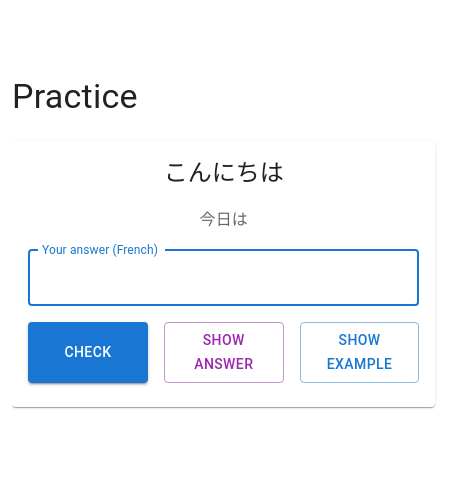
Test case: Practice Component › shows example sentence when requested
Check: the heading "こんにちは" is shown, box [164,160,284,188]
# Click show example button
Click the button "Show Example".
click(360, 352)  # box [300,322,420,382]
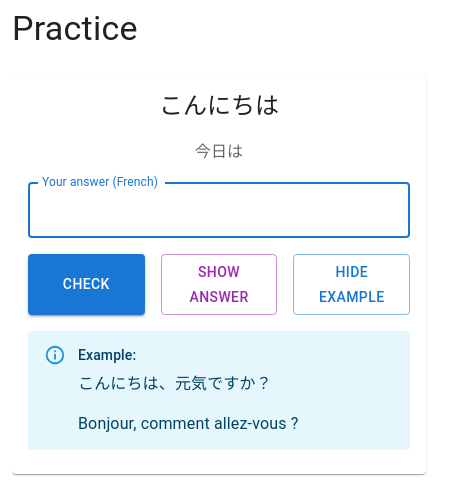
Check: the text "こんにちは、元気ですか？" is shown, box [78,372,298,396]
Check: the text "Bonjour, comment allez-vous ?" is shown, box [78,412,298,436]
